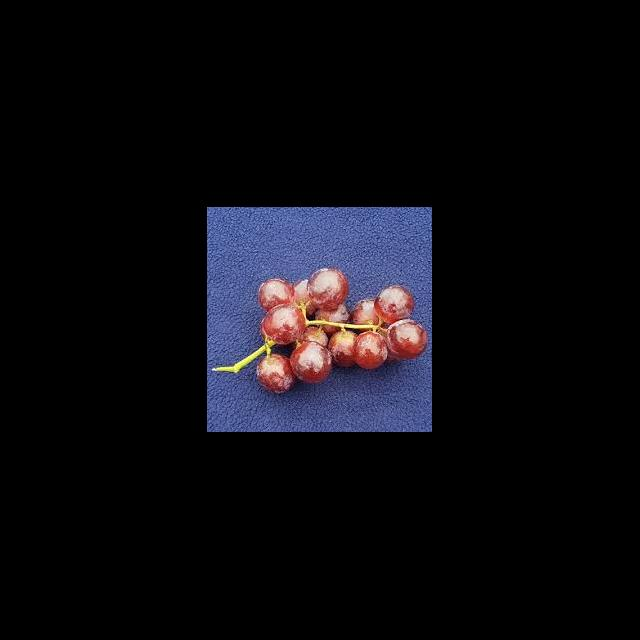grape: (212, 266, 428, 394)
